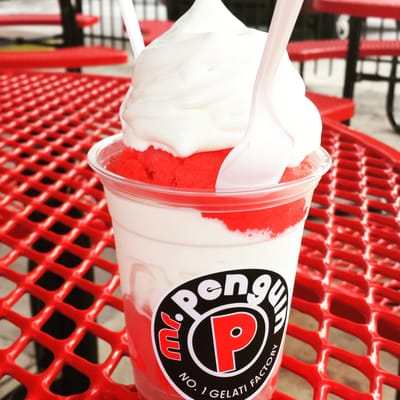pizza: (87, 128, 337, 400)
